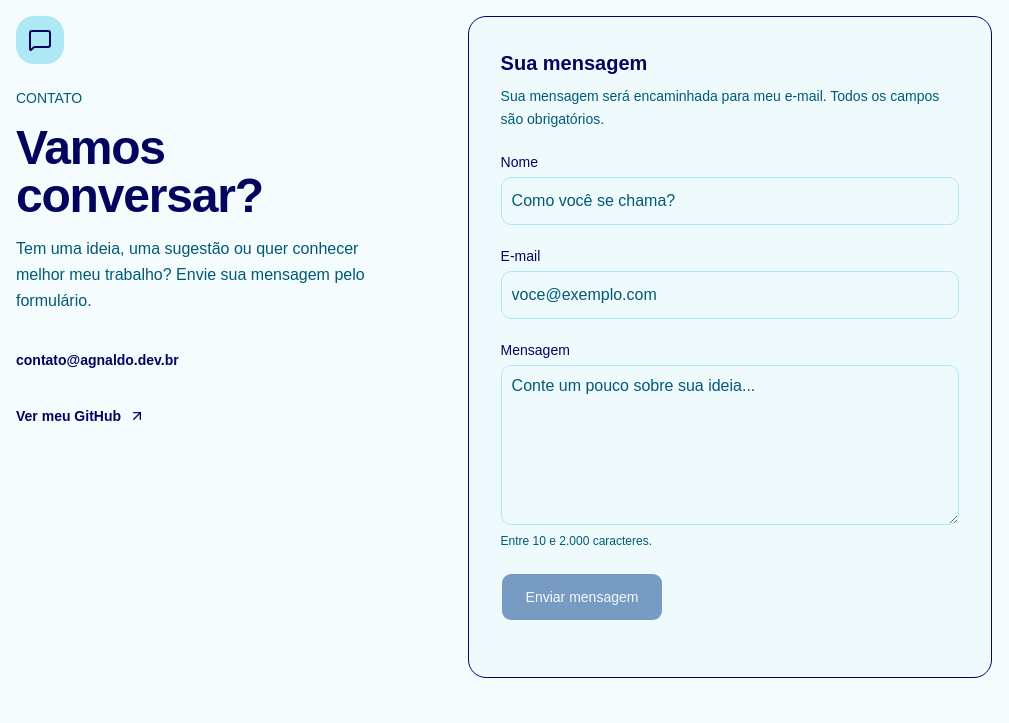
Scenario: Formulário de contato › valida e-mail ao sair do campo
This screenshot has width=1009, height=723.
Type "invalido" into the field labelled "E-mail" at point(730, 294), box [501,270,959,318]
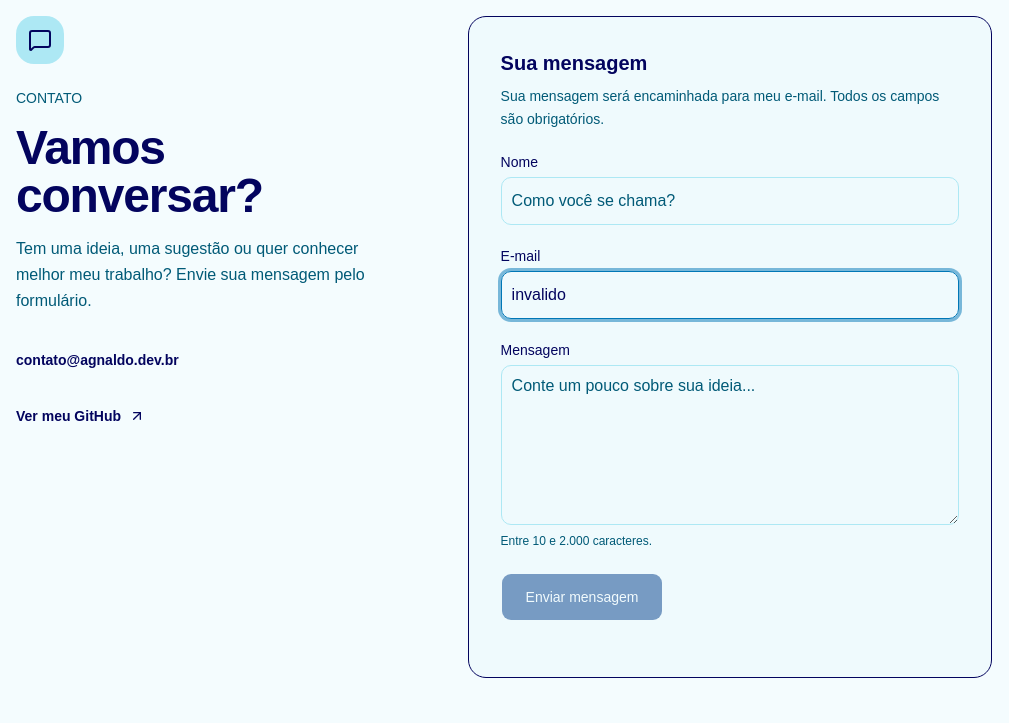
Press Tab
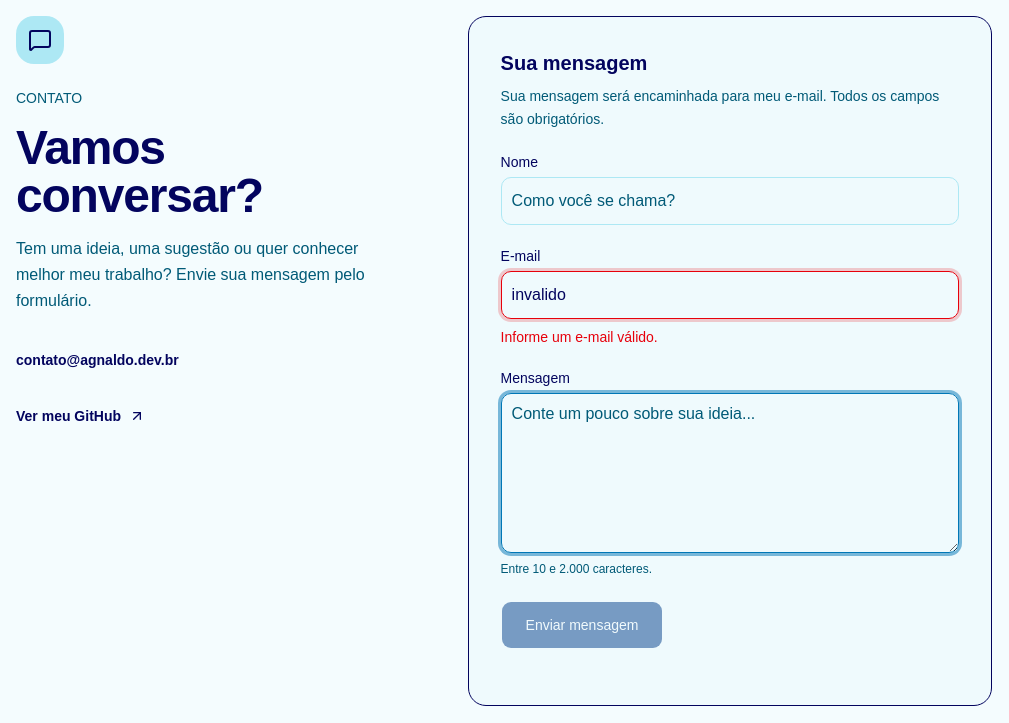
Check: the message reads "Informe um e-mail válido.", box [501,328,658,344]
